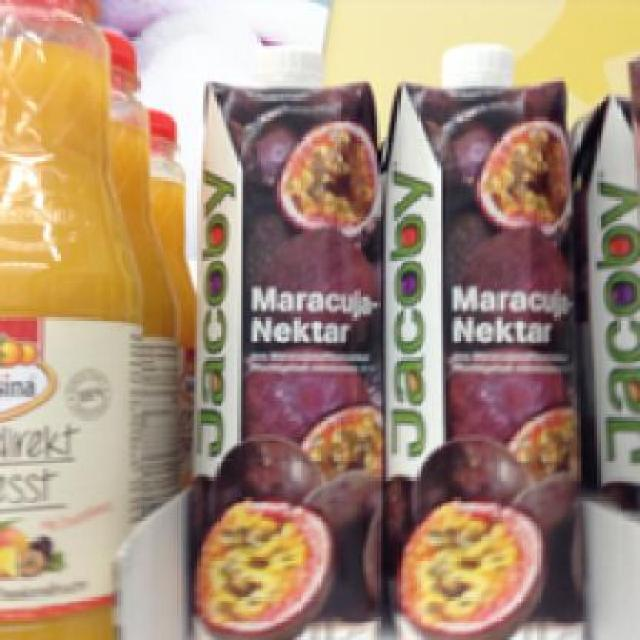Juice: (185, 42, 388, 638), (380, 42, 580, 638)
